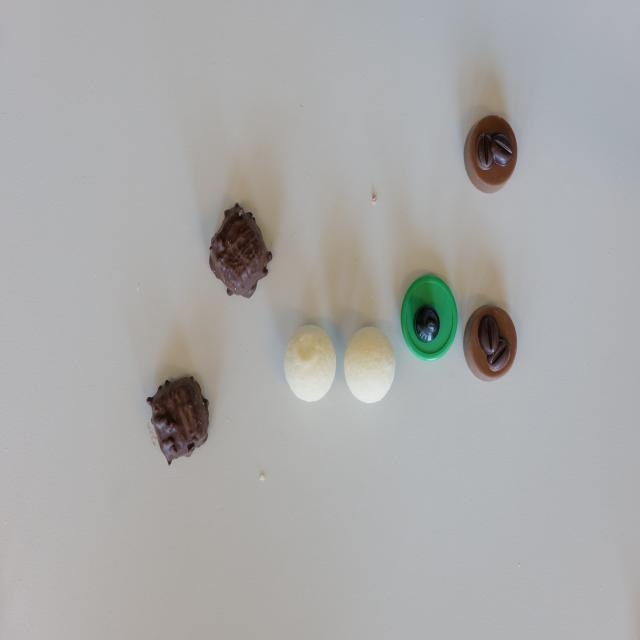Arabia: (464, 114, 518, 193), (465, 305, 518, 382)
Comtesse: (285, 325, 336, 403), (344, 326, 394, 403)
Tentation_noir: (209, 201, 273, 301), (147, 375, 210, 465)
